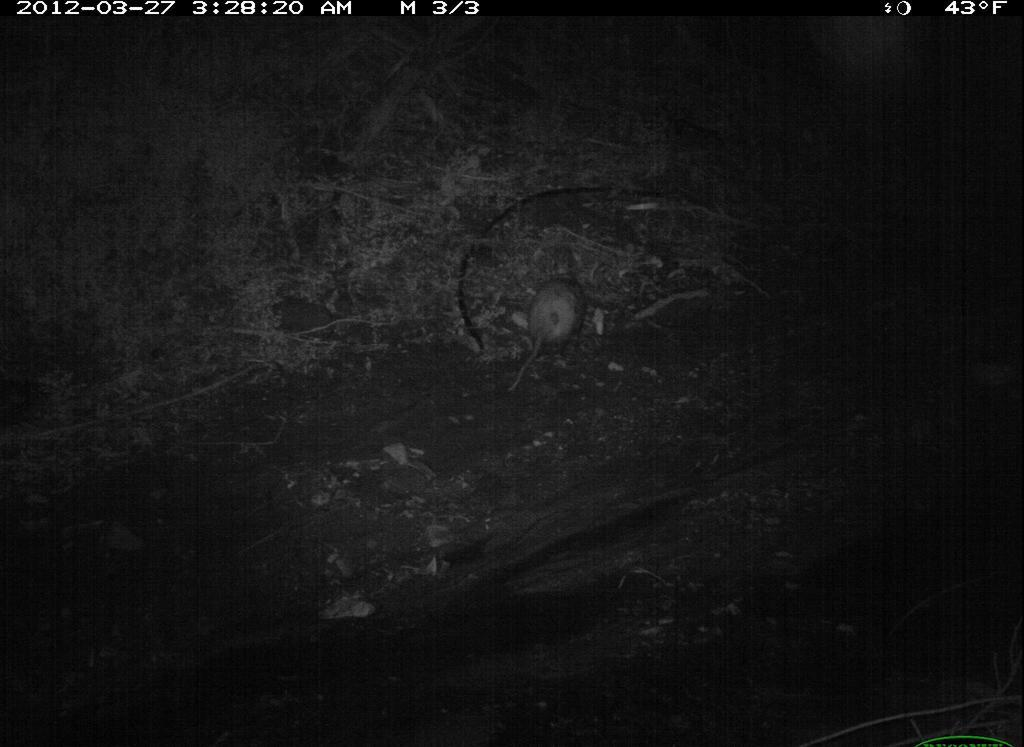opossum: (501, 274, 588, 390)
